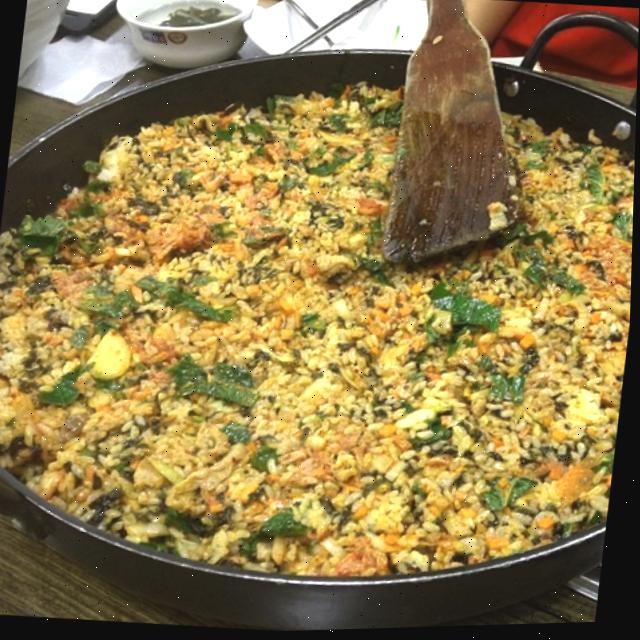鸡肉料理 含炸鸡: (0, 1, 640, 640)
